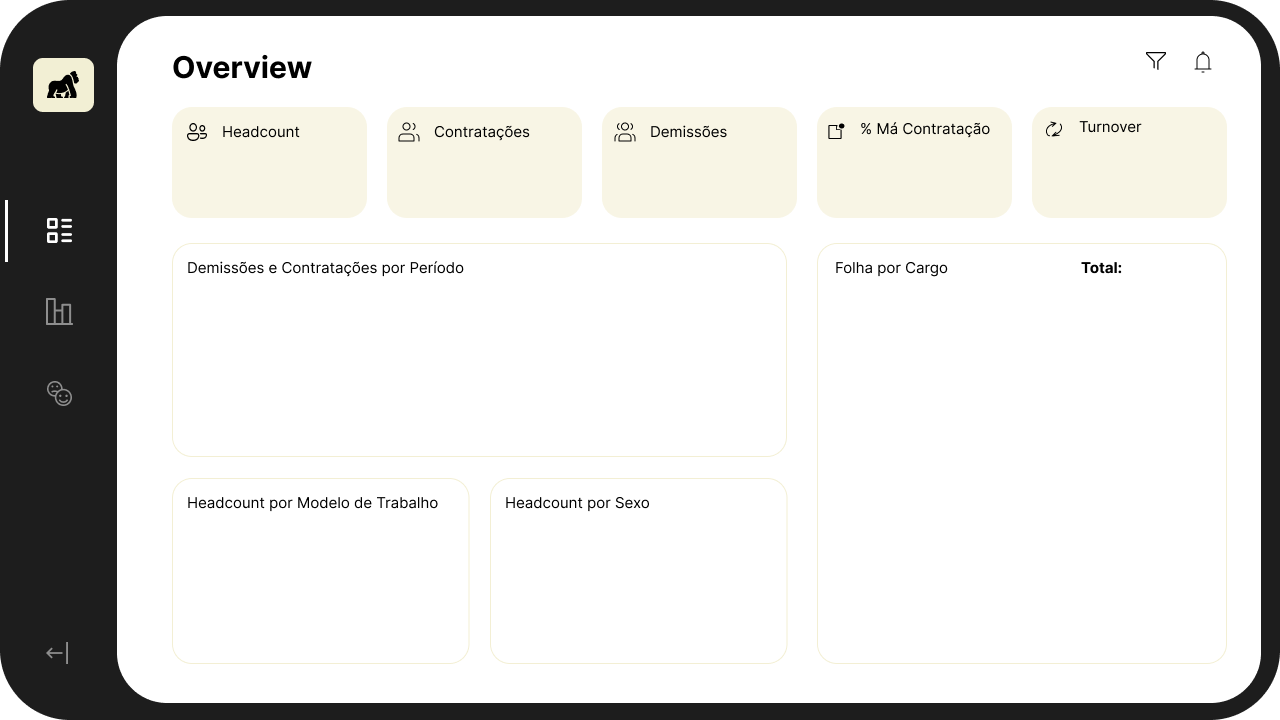

Layout of this report page (visuals, bound fields, positions):
{"tool":"powerbi","page":{"name":"Dashboard","canvas":[1280,720],"ordinal":0},"visuals":[{"type":"group","id":"g1","title":"Menu","box":[0,0,1280,720],"z":0},{"type":"image","box":[0,0,1280,720],"z":0,"group":"g1"},{"type":"card","title":"Contratações","fields":{"Values":["Measure.Total Hiring"]},"box":[393.7,145.3,187.4,51.6],"z":1000,"group":"g1"},{"type":"card","title":"Headcount","fields":{"Values":["Measure.Headcount"]},"box":[176.8,145.3,193.7,51.6],"z":2000,"group":"g1"},{"type":"actionButton","title":"NavBookmarkGithub","box":[38.9,628.4,49.5,38.9],"z":2000},{"type":"card","title":"Demissões","fields":{"Values":["Measure.layoffs"]},"box":[606.3,145.3,190.5,51.6],"z":3000,"group":"g1"},{"type":"card","title":"% Má Contratação","fields":{"Values":["Measure.% Bad Hire"]},"box":[815.8,145.3,188.4,51.6],"z":4000,"group":"g1"},{"type":"card","title":"Turnover","fields":{"Values":["Measure.Turnover"]},"box":[1027.4,145.3,186.3,51.6],"z":5000,"group":"g1"},{"type":"lineStackedColumnComboChart","title":"Demissões e Contratações por Mês","fields":{"Category":["time.CurrentMonth"],"Y":["Measure.Total Hiring","Measure.Layoffs Chart"]},"box":[176.8,256.8,606.3,196.8],"z":6000,"group":"g1"},{"type":"clusteredBarChart","title":"Folha de Pagamento por Cargo","fields":{"Y":["Measure.Payroll Value"],"Category":["role.name"]},"box":[815.8,269.6,398,388.1],"z":7000,"group":"g1"},{"type":"card","title":"Folha Pagamento","fields":{"Values":["Measure.Payroll Value"]},"box":[1111.1,256.8,85.9,24.7],"z":8000,"group":"g1"},{"type":"clusteredColumnChart","title":"Headcount por Modo de Trabalho","fields":{"Category":["employee.work"],"Y":["Measure.Headcount"]},"box":[176.8,503.7,294.3,154.1],"z":9000,"group":"g1"},{"type":"donutChart","title":"Headcount por Sexo","fields":{"Y":["Measure.Headcount"],"Category":["employee.gender"]},"box":[494.8,494.8,287.4,163],"z":10000,"group":"g1"},{"type":"actionButton","title":"NavBookmarkW/Filter","box":[1128,50.2,39.5,29.6],"z":10500,"group":"g1"}]}

Visuals, with their boxes in screenshot pixels (x1, y1, x2, y2):
"Menu" group: <bbox>40, 13, 1258, 698</bbox>
image: <bbox>40, 13, 1258, 698</bbox>
"Contratações" card: <bbox>414, 152, 593, 201</bbox>
"Headcount" card: <bbox>208, 152, 392, 201</bbox>
"NavBookmarkGithub" actionButton: <bbox>77, 611, 124, 648</bbox>
"Demissões" card: <bbox>617, 152, 798, 201</bbox>
"% Má Contratação" card: <bbox>816, 152, 995, 201</bbox>
"Turnover" card: <bbox>1017, 152, 1194, 201</bbox>
"Demissões e Contratações por Mês" lineStackedColumnComboChart: <bbox>208, 258, 785, 445</bbox>
"Folha de Pagamento por Cargo" clusteredBarChart: <bbox>816, 270, 1195, 639</bbox>
"Folha Pagamento" card: <bbox>1097, 258, 1179, 281</bbox>
"Headcount por Modo de Trabalho" clusteredColumnChart: <bbox>208, 492, 488, 639</bbox>
"Headcount por Sexo" donutChart: <bbox>511, 484, 784, 639</bbox>
"NavBookmarkW/Filter" actionButton: <bbox>1113, 61, 1151, 89</bbox>
